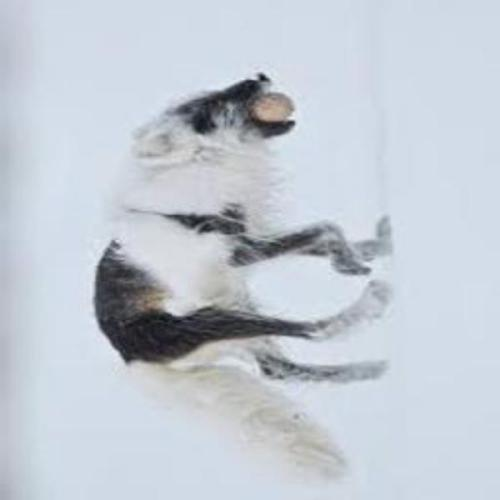arctic_fox-endangered: (92, 70, 396, 497)
